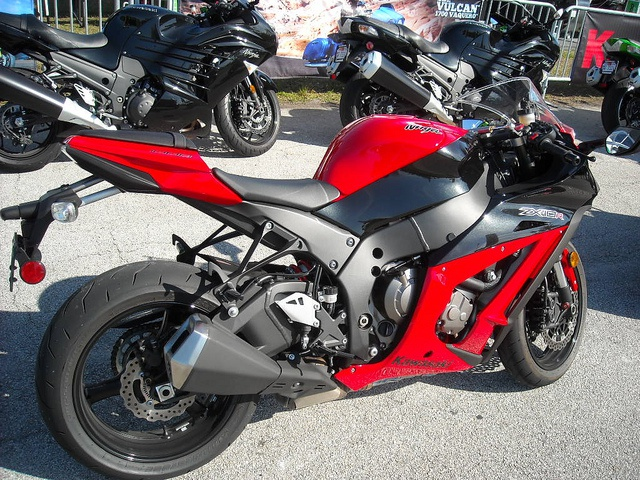non-vehicle: (0, 76, 640, 480), (0, 0, 280, 172), (327, 7, 565, 132), (302, 2, 404, 77), (585, 36, 639, 146)
